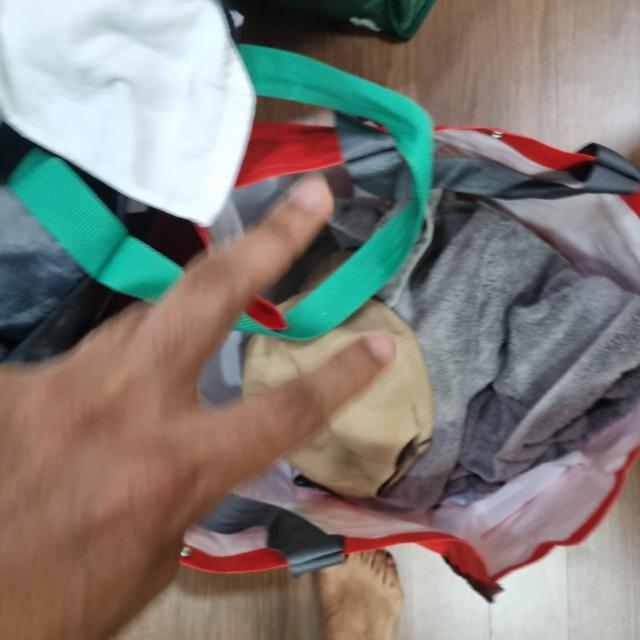Scissors: (0, 178, 396, 639)
